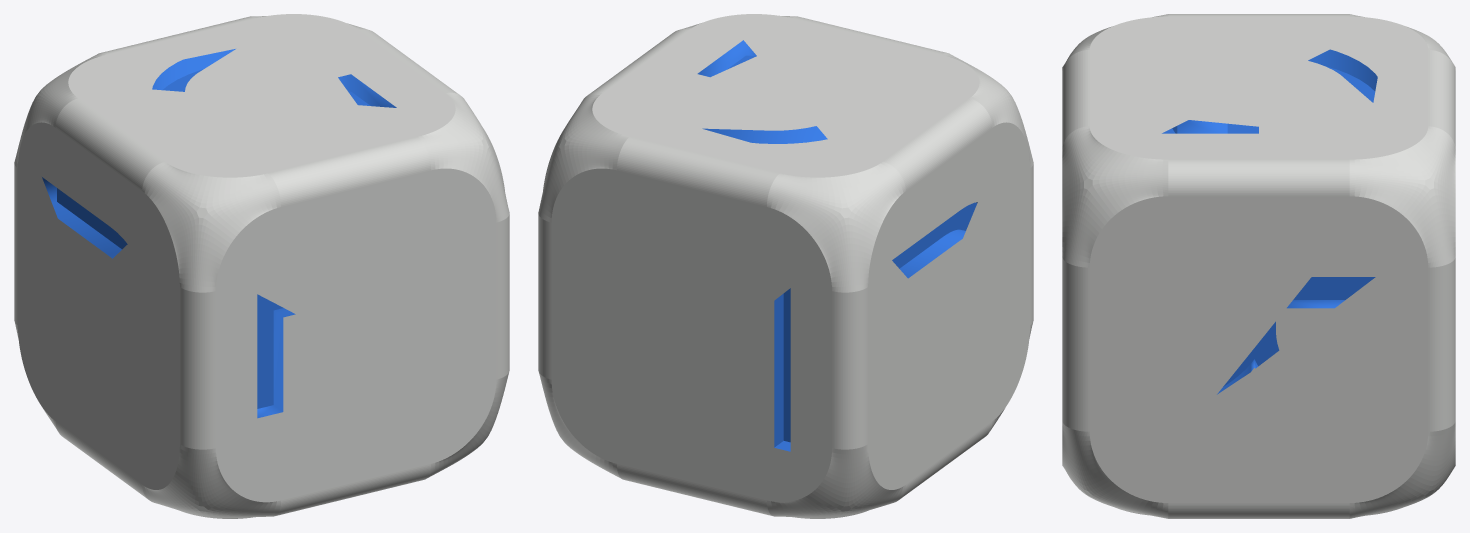
Rendered from BoggleDice.fbx_Die14.fbx.
3 views of the same model, side by side, from view 1: azimuth 30°, elevation 25°; view 2: azimuth 150°, elevation 25°; view 3: azimuth 270°, elevation 25° (orthographic). The views are drawn at different scales.
Visible parts, largest first — view 1: Die14; view 2: Die14; view 3: Die14.
Boxes of the visible parts, bbox=[...] form: Die14: bbox=[14, 14, 509, 518]; Die14: bbox=[538, 14, 1033, 518]; Die14: bbox=[1062, 14, 1455, 518].
Size of the model in its own units: 200 by 200 by 200.
